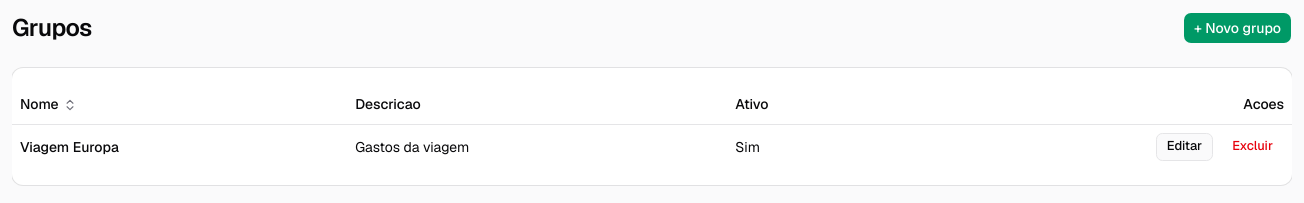
Test: GruposPage › exibe confirmacao ao clicar Excluir
Check: the text "Viagem Europa" is shown, box [12,124,347,168]
Click the button "Excluir": (1253, 146) [1221,132,1284,160]
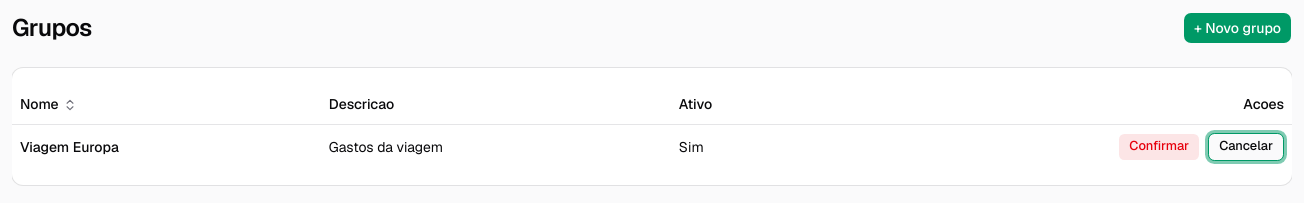
Check: the button "Confirmar" is shown, box [1118,132,1200,160]
Check: the button "Cancelar" is shown, box [1208,132,1284,160]
